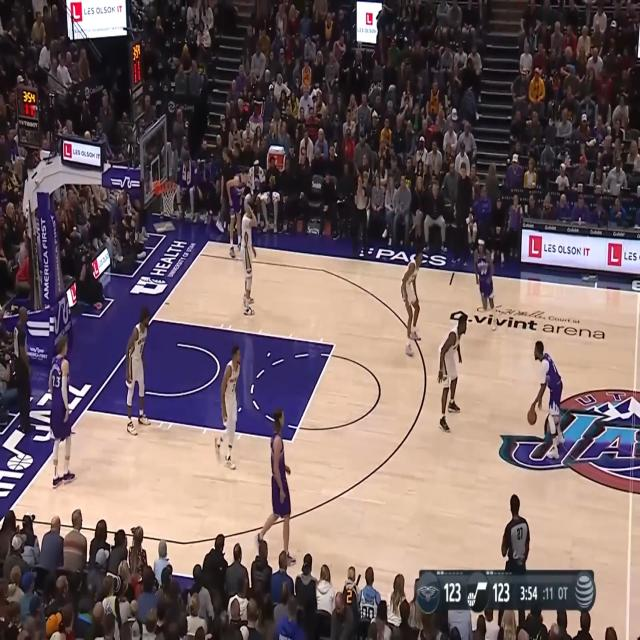Ball: (527, 409, 538, 426)
Clock: (16, 87, 38, 119), (131, 40, 143, 90)
Hoop: (160, 181, 178, 216)
Overlay: (417, 569, 596, 614)
Player: (252, 408, 297, 568), (47, 337, 76, 489), (530, 339, 565, 460), (214, 344, 242, 471), (124, 308, 151, 438), (438, 314, 467, 432), (473, 236, 498, 332), (400, 248, 422, 357), (226, 165, 248, 259), (240, 202, 257, 316)
Ref: (496, 493, 530, 639), (14, 306, 36, 434), (352, 173, 370, 260)
Scoreboard: (416, 570, 572, 612)
